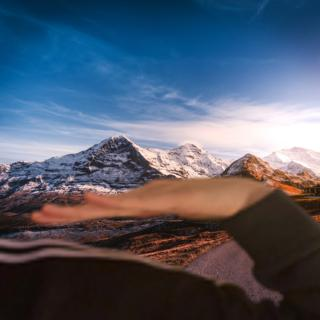Wait: (24, 166, 270, 229)
